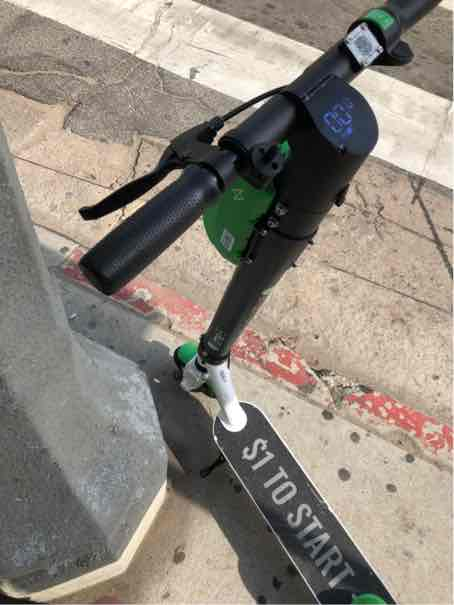scooter: (74, 45, 443, 605)
